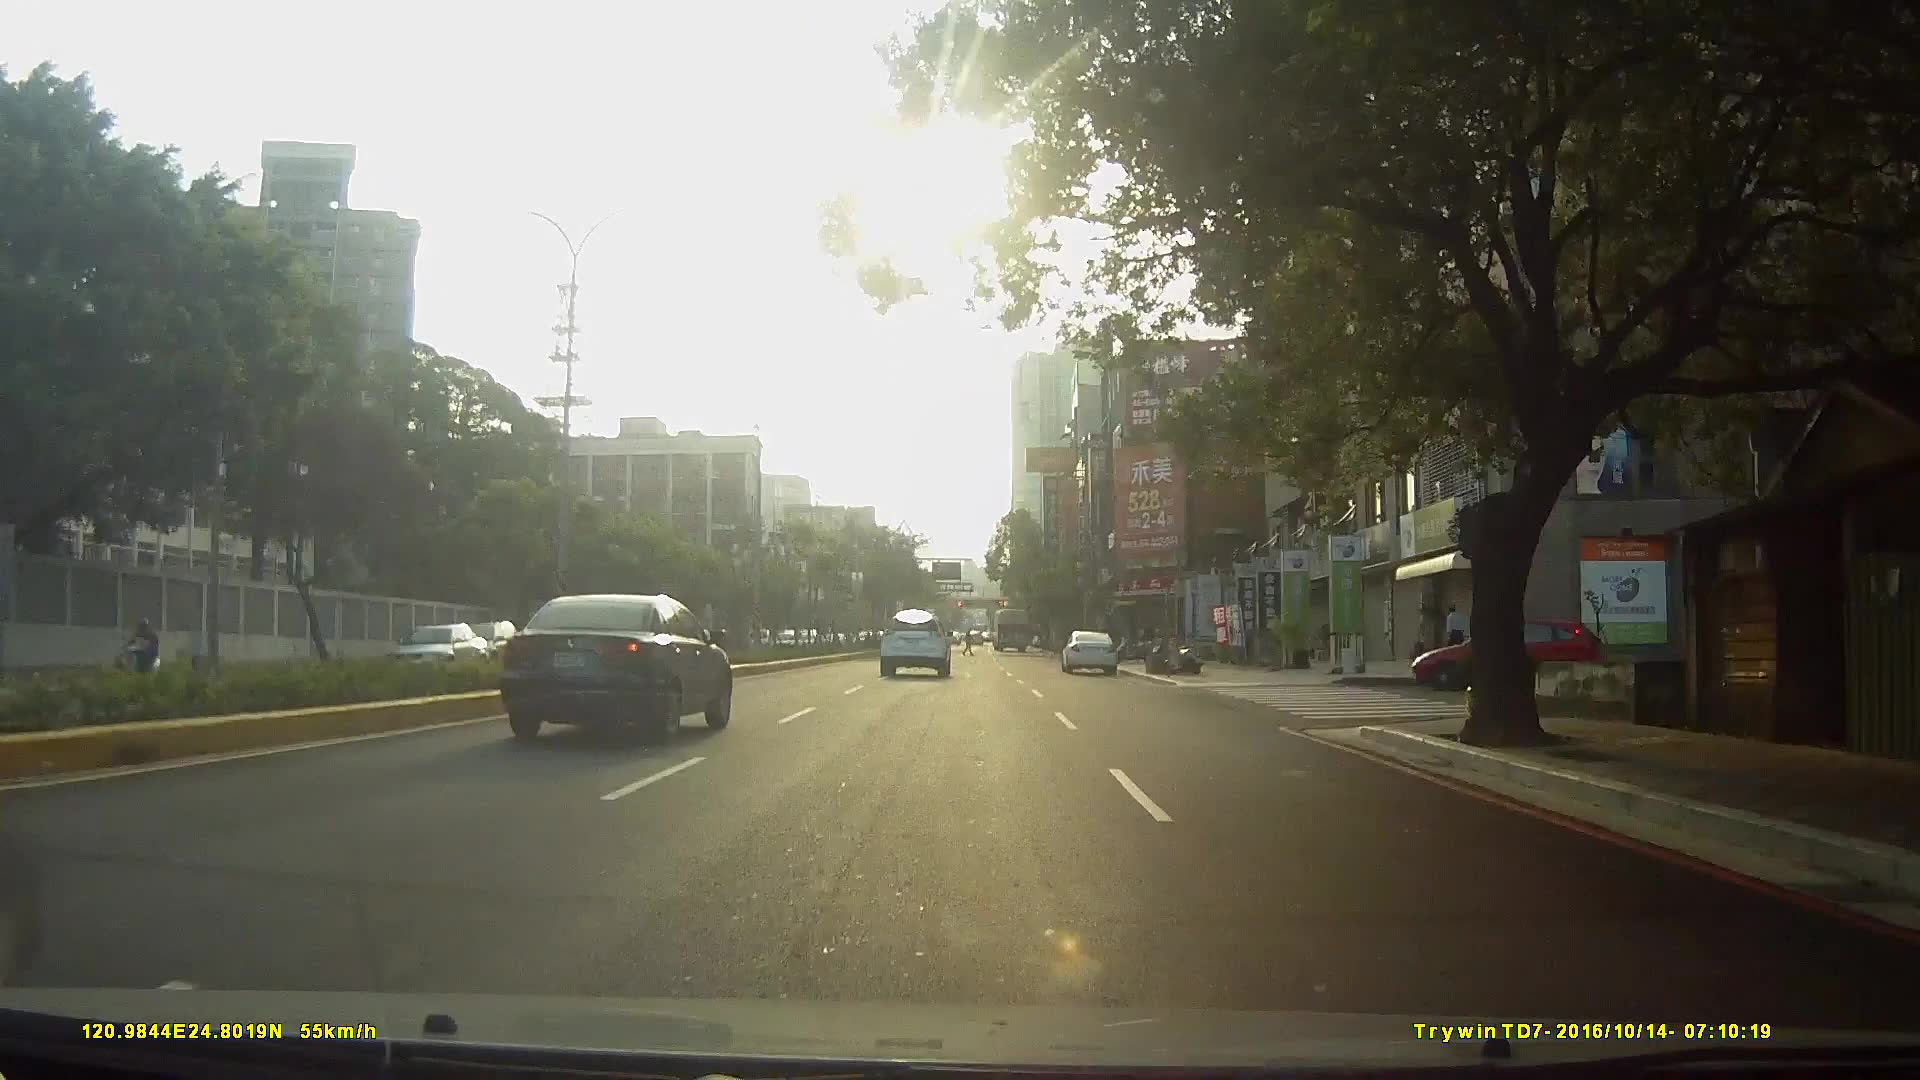pedestrian: (1445, 604, 1467, 670)
rider: (114, 618, 168, 691)
vehicle: (504, 596, 738, 744), (1413, 600, 1622, 690), (384, 623, 499, 691), (879, 612, 953, 680), (453, 616, 523, 667), (1059, 632, 1120, 678), (988, 609, 1032, 656)
